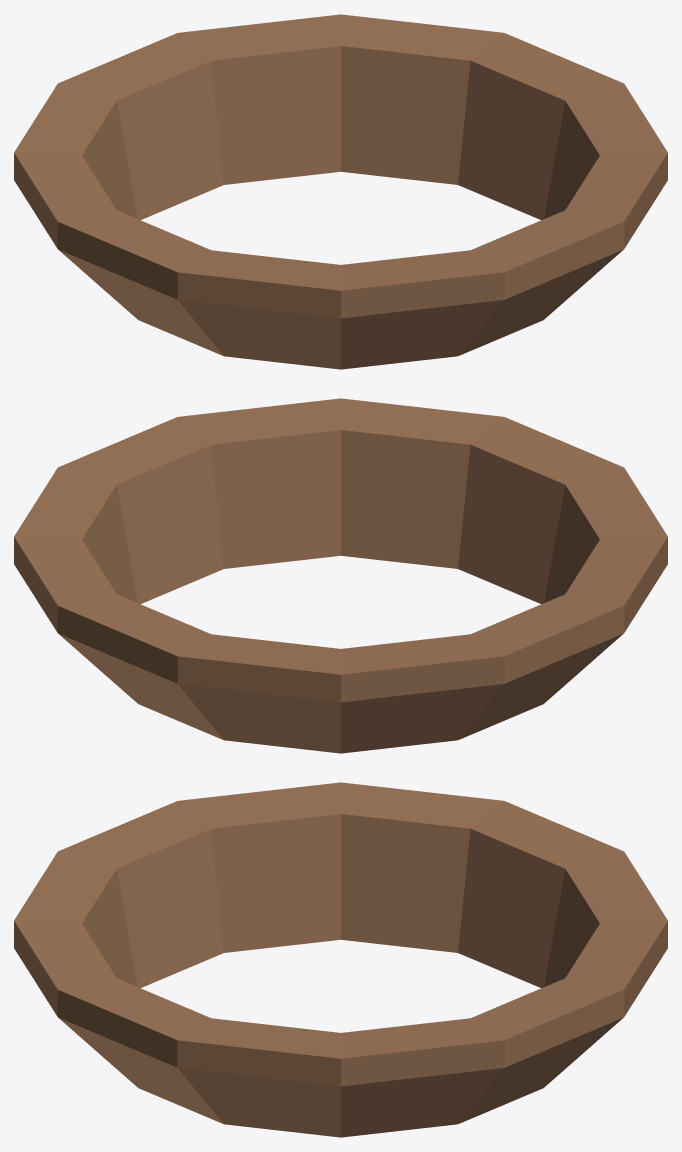
Rendered from Candle_02_BaseA.fbx.
3 views of the same model, one above another, from view 1: azimuth 30°, elevation 25°; view 2: azimuth 150°, elevation 25°; view 3: azimuth 270°, elevation 25° (orthographic).
Parts seen in each view (by area): view 1: Candle_02_BaseA; view 2: Candle_02_BaseA; view 3: Candle_02_BaseA.
Boxes of the visible parts, x1,y1,x2,y2 form: Candle_02_BaseA: [14, 14, 667, 369]; Candle_02_BaseA: [14, 398, 667, 753]; Candle_02_BaseA: [14, 782, 667, 1137].
Bounding box in the file's own units: 23.72 × 4.73 × 23.72.
